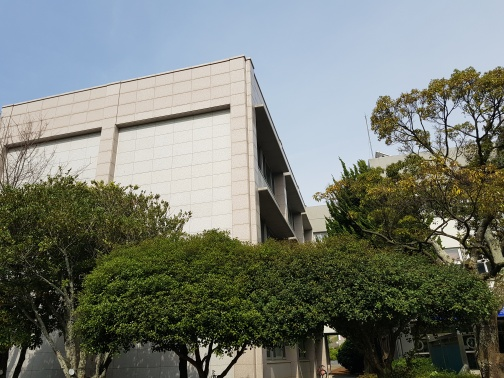College of Nursing: (12, 77, 337, 367)
